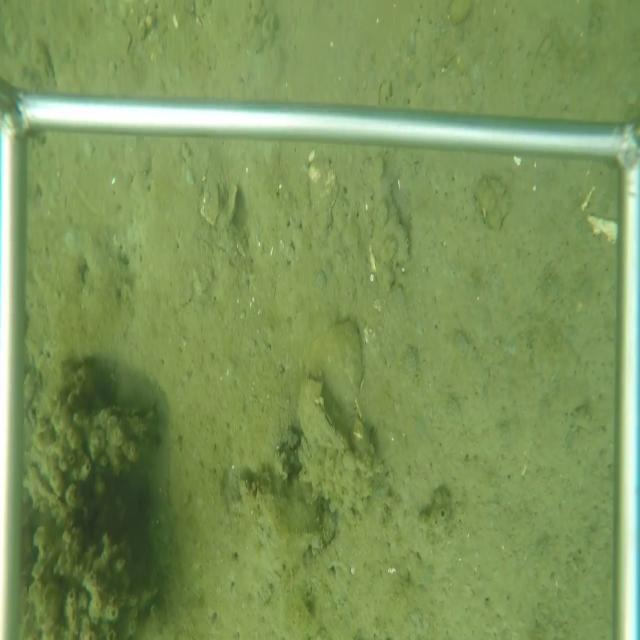Oyster-Closed: (294, 370, 389, 535)
